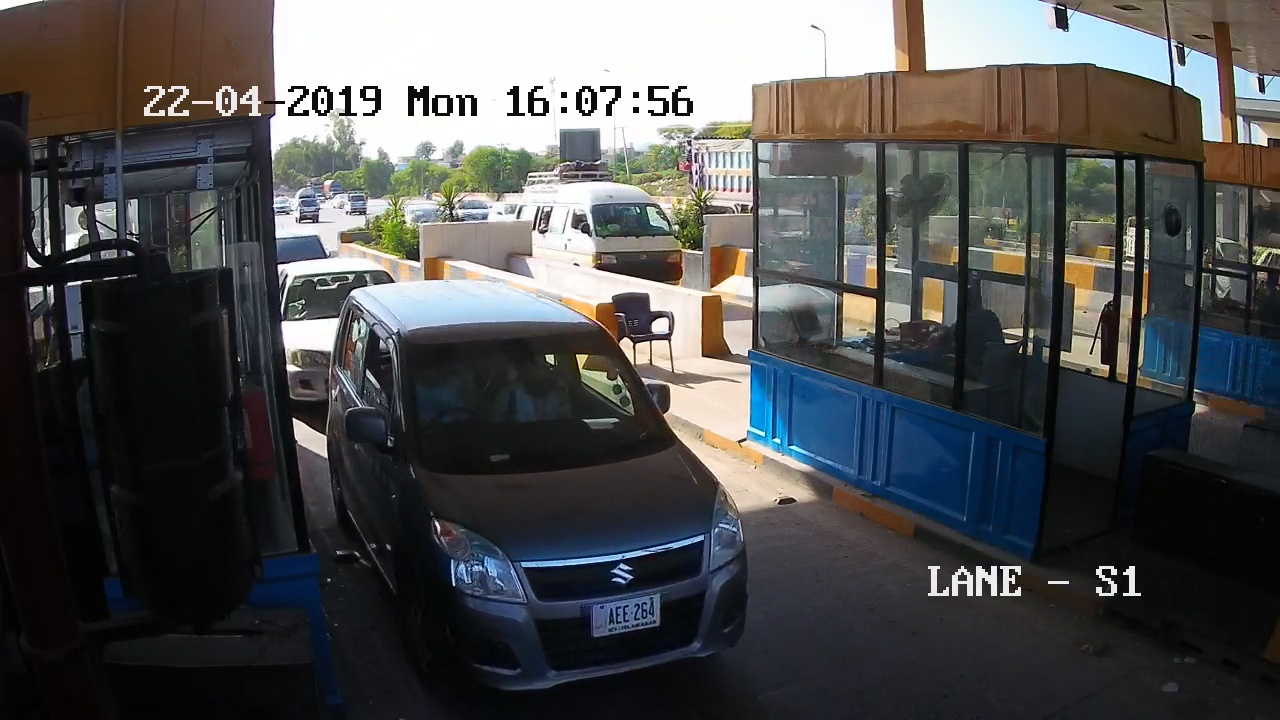Number Plate (Car): (590, 598, 661, 634)
